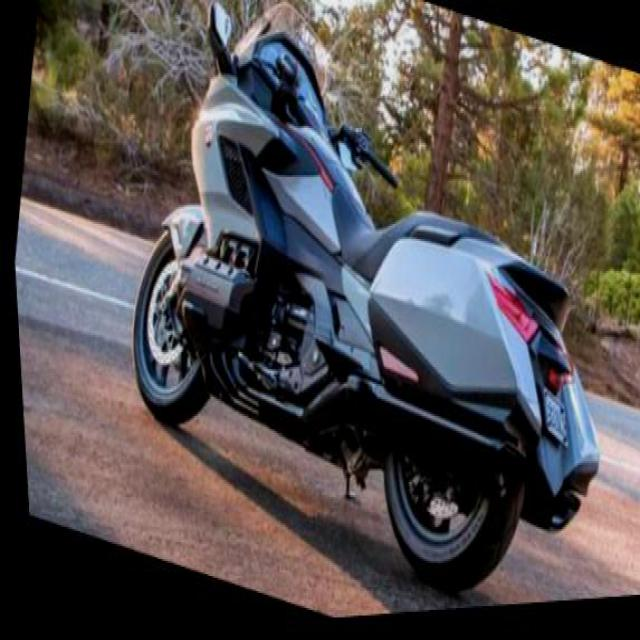Gold Wing: (88, 0, 639, 635)
